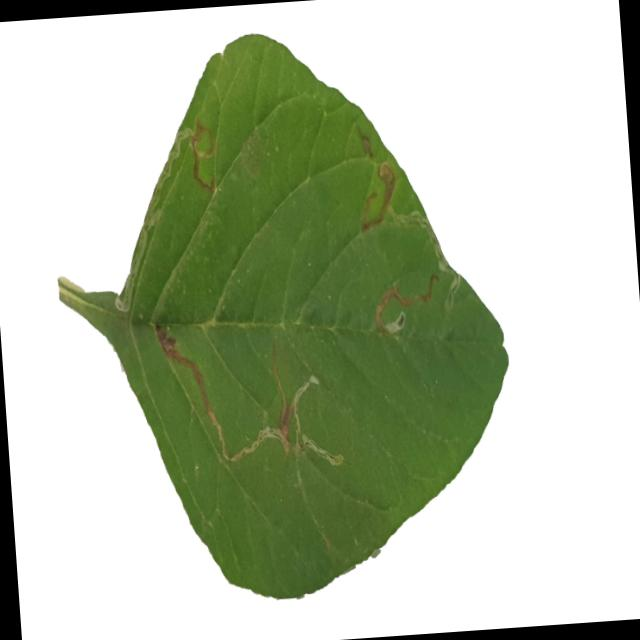Medicinal-Arive Dantu: (40, 12, 525, 615)
